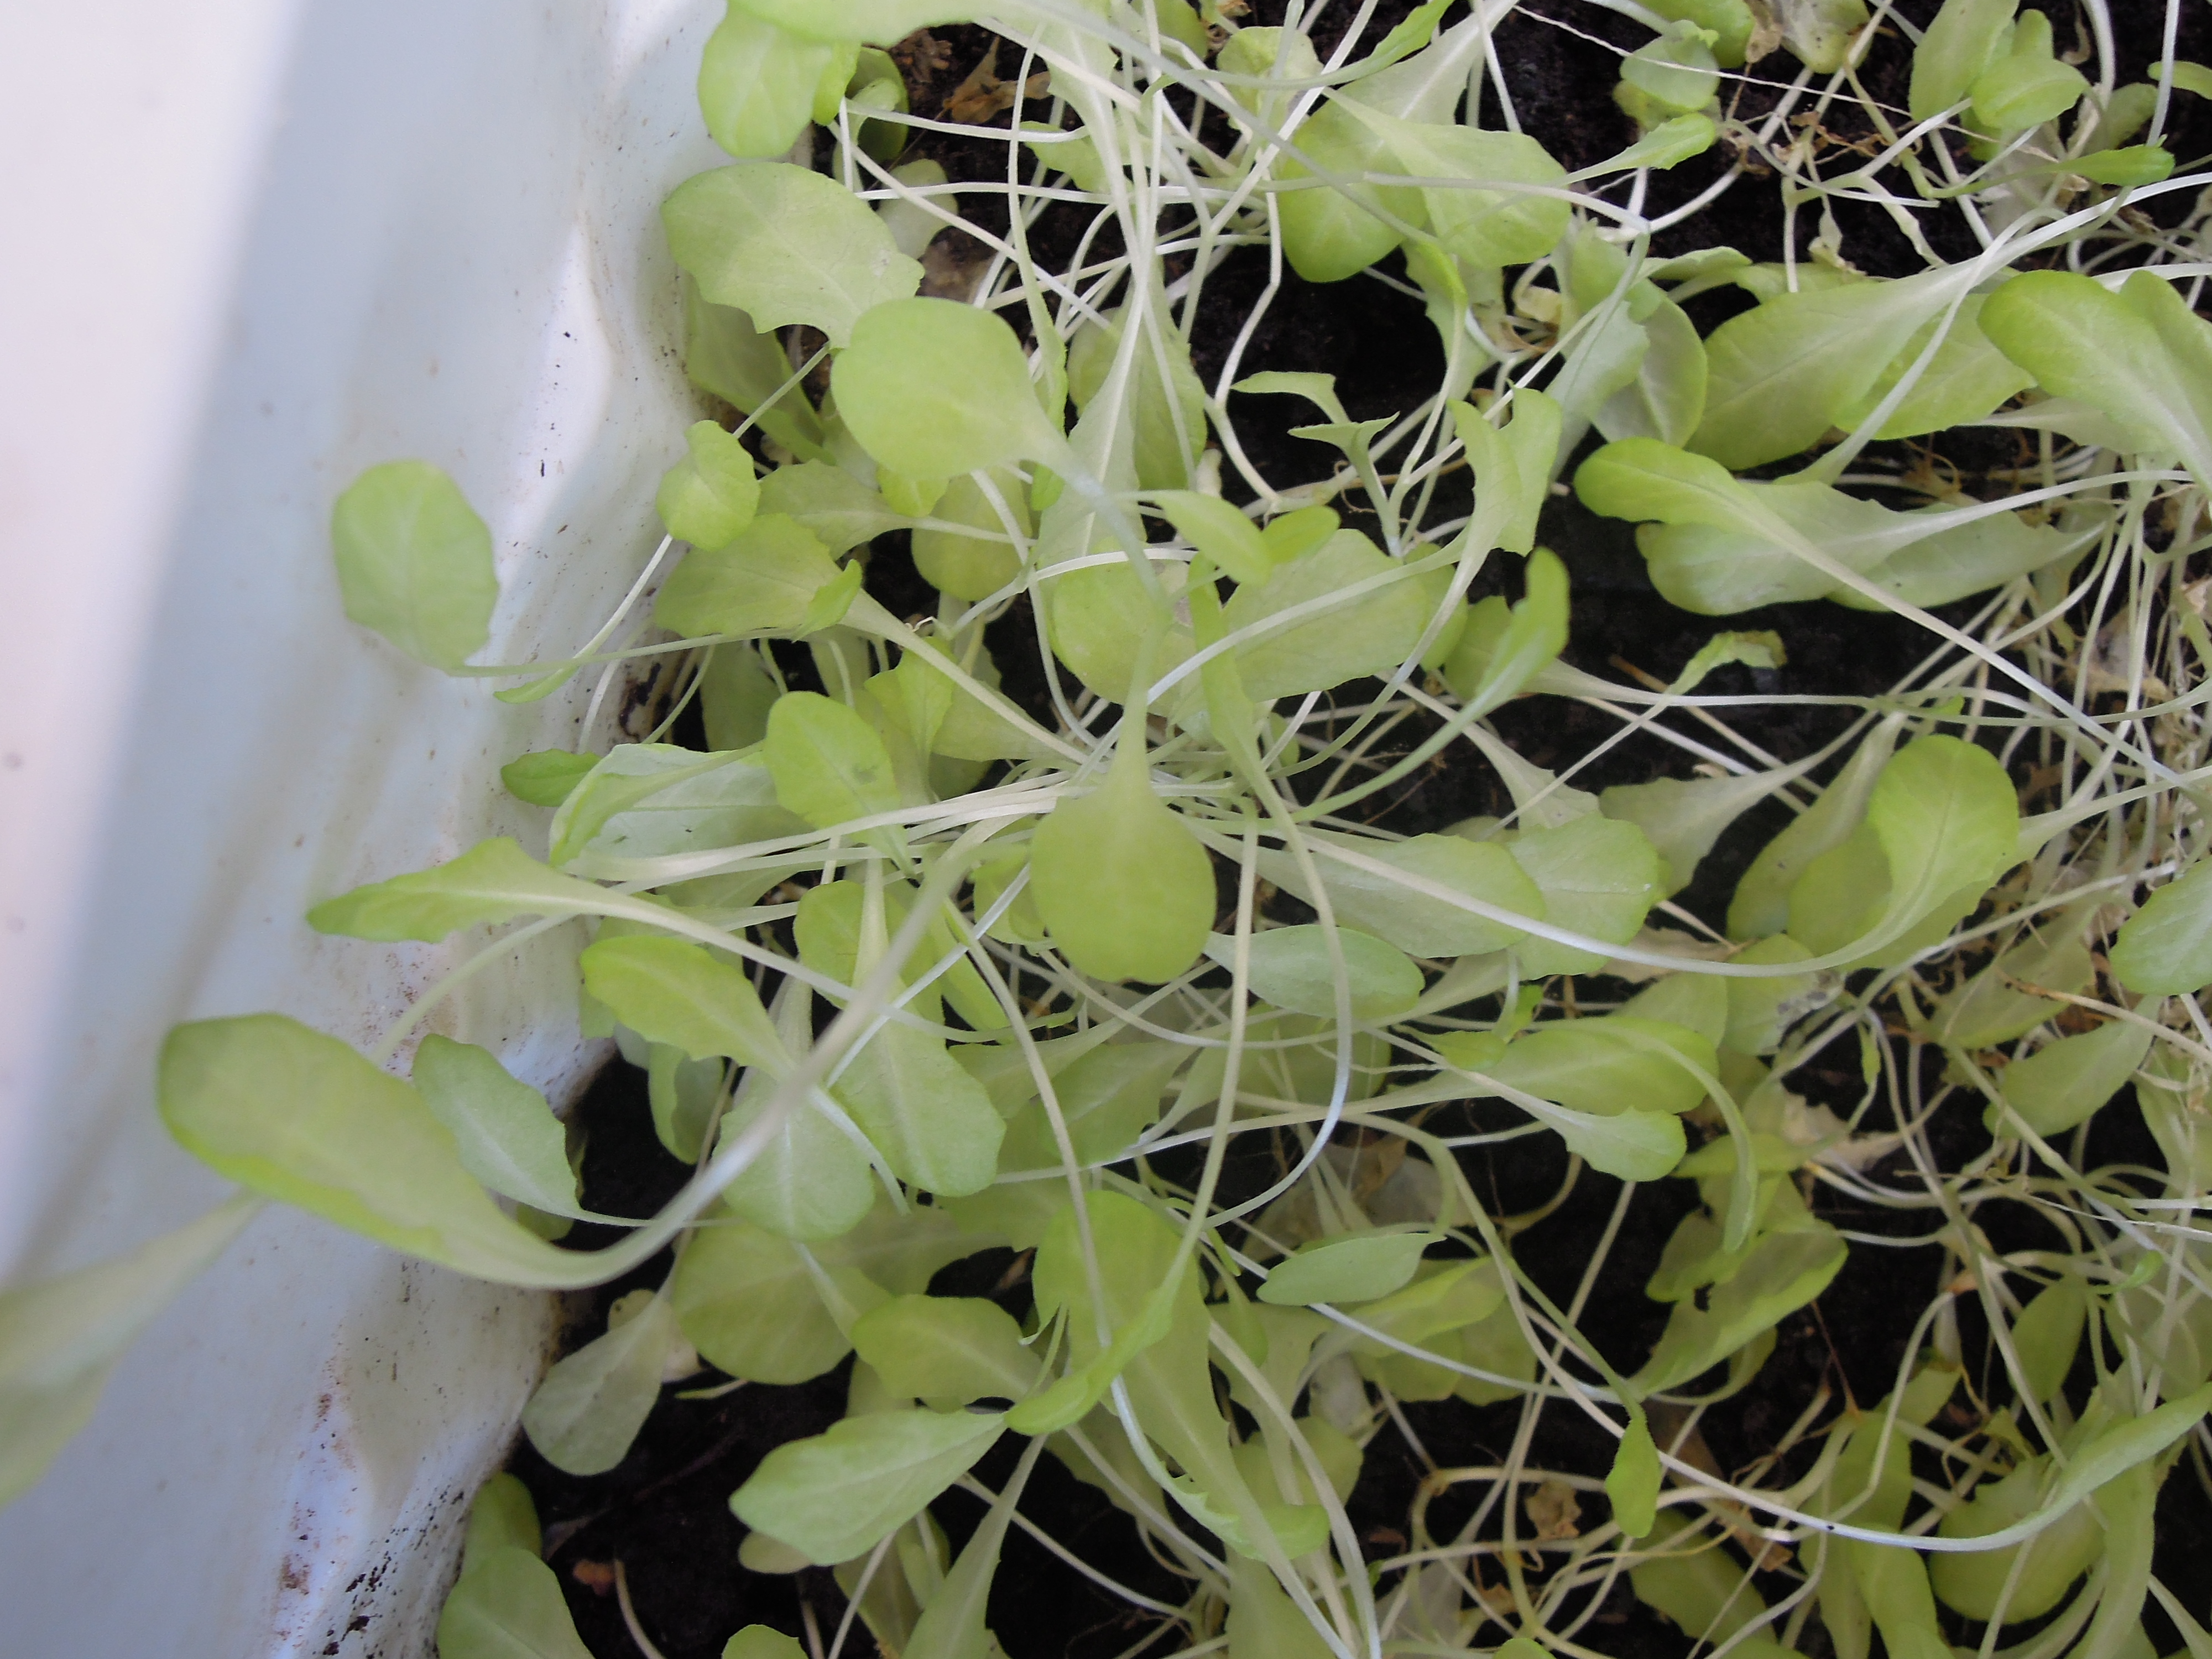weeek6: (111, 138, 2040, 1563)
